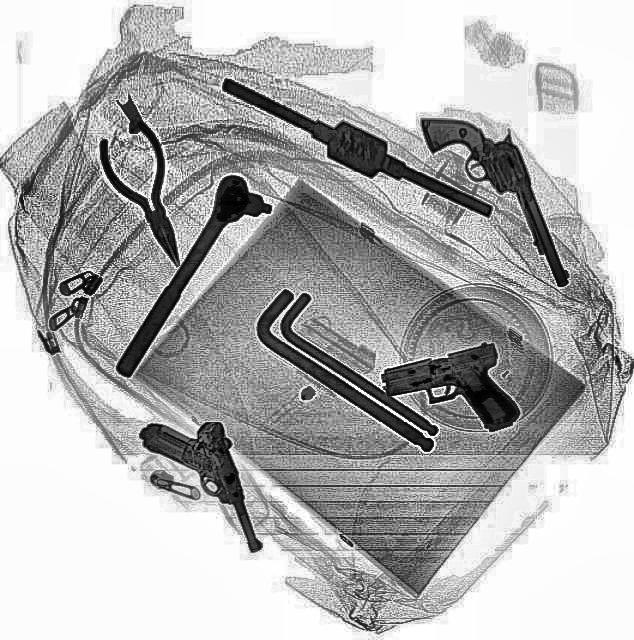Gun: (417, 92, 571, 310), (134, 401, 270, 571), (376, 340, 522, 450)
Pliers: (88, 117, 208, 275)
